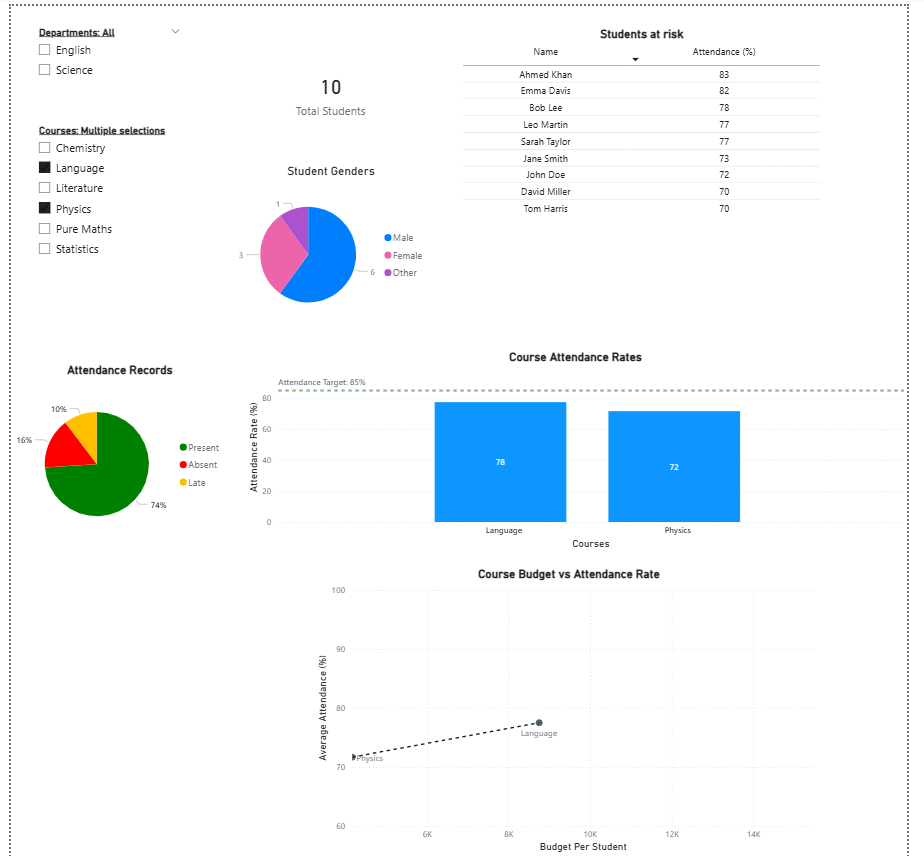

This screenshot's page, from the dashboard's own definition file:
{"tool":"powerbi","page":{"name":"Page 1","canvas":[1280,1440],"ordinal":0},"visuals":[{"type":"clusteredColumnChart","title":"Course Attendance Rates","fields":{"Category":["vw_courseOverview.courseName"],"Y":["Sum(vw_courseOverview.avgAttendance)"]},"box":[332.5,491.2,947.5,288.8],"z":1000},{"type":"slicer","fields":{"Values":["vw_courseOverview.departmentName"]},"box":[27.1,24.3,227.1,131.4],"z":2000},{"type":"pieChart","title":"Attendance Records","fields":{"Category":["attendances.AttendanceStatusValue"],"Y":["CountNonNull(attendances.attendanceId)"]},"box":[0,510,311.2,270],"z":3000},{"type":"slicer","title":"Courses","fields":{"Values":["courses.courseName"]},"box":[27.5,163.8,226.2,215],"z":4000},{"type":"card","fields":{"Values":["CourseStudent.StudentCount"]},"box":[335,23.8,245,201.2],"z":5000},{"type":"pieChart","title":"Student Genders","fields":{"Category":["students.StudentGenderValue"],"Y":["CourseStudent.StudentCount"]},"box":[311.2,225,291.2,240],"z":6000},{"type":"tableEx","title":"Students at risk","fields":{"Values":["vw_AtRiskStudents.StudentFullName","vw_AtRiskStudents.attendanceAvg"]},"box":[640,23.8,522.5,450],"z":7000},{"type":"scatterChart","title":"Course Budget vs Attendance Rate","fields":{"X":["Sum(vw_courseOverview.budgetPerStudent)"],"Y":["Sum(vw_courseOverview.avgAttendance)"],"Category":["vw_courseOverview.courseName"]},"box":[431.4,801.4,731.4,412.9],"z":8000}]}

Visuals, with their boxes on the page's 1280x1440 design canvas (x1, y1, x2, y2). These are canvas units, not pixel positions in the 924x856 screenshot, which may show the page scaled, cropped or inside an application window:
"Course Attendance Rates" clusteredColumnChart: (332, 491, 1280, 780)
slicer - vw_courseOverview.departmentName: (27, 24, 254, 156)
"Attendance Records" pieChart: (0, 510, 311, 780)
"Courses" slicer: (28, 164, 254, 379)
card - CourseStudent.StudentCount: (335, 24, 580, 225)
"Student Genders" pieChart: (311, 225, 602, 465)
"Students at risk" tableEx: (640, 24, 1162, 474)
"Course Budget vs Attendance Rate" scatterChart: (431, 801, 1163, 1214)
